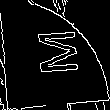M_W: (29, 29, 81, 81)
